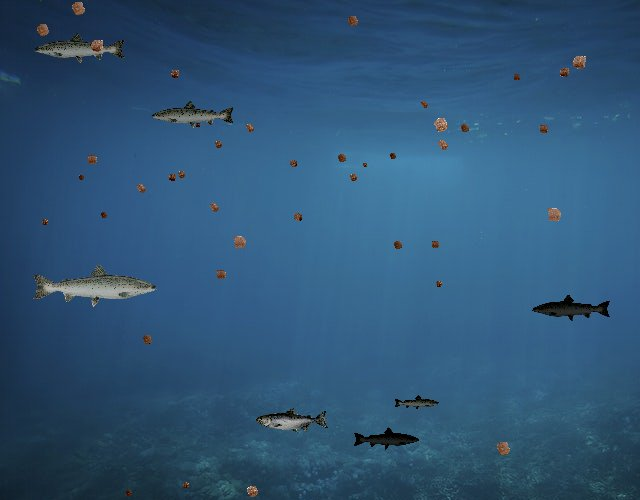Fish: (30, 262, 159, 308), (33, 31, 127, 65), (150, 99, 236, 130), (532, 294, 613, 323), (257, 407, 330, 434), (352, 426, 420, 450), (394, 394, 441, 411)
Pellet: (565, 49, 593, 77), (240, 479, 265, 500), (455, 119, 474, 138), (345, 169, 362, 186), (178, 478, 193, 493), (122, 486, 136, 500), (432, 277, 446, 291), (38, 215, 52, 229)
